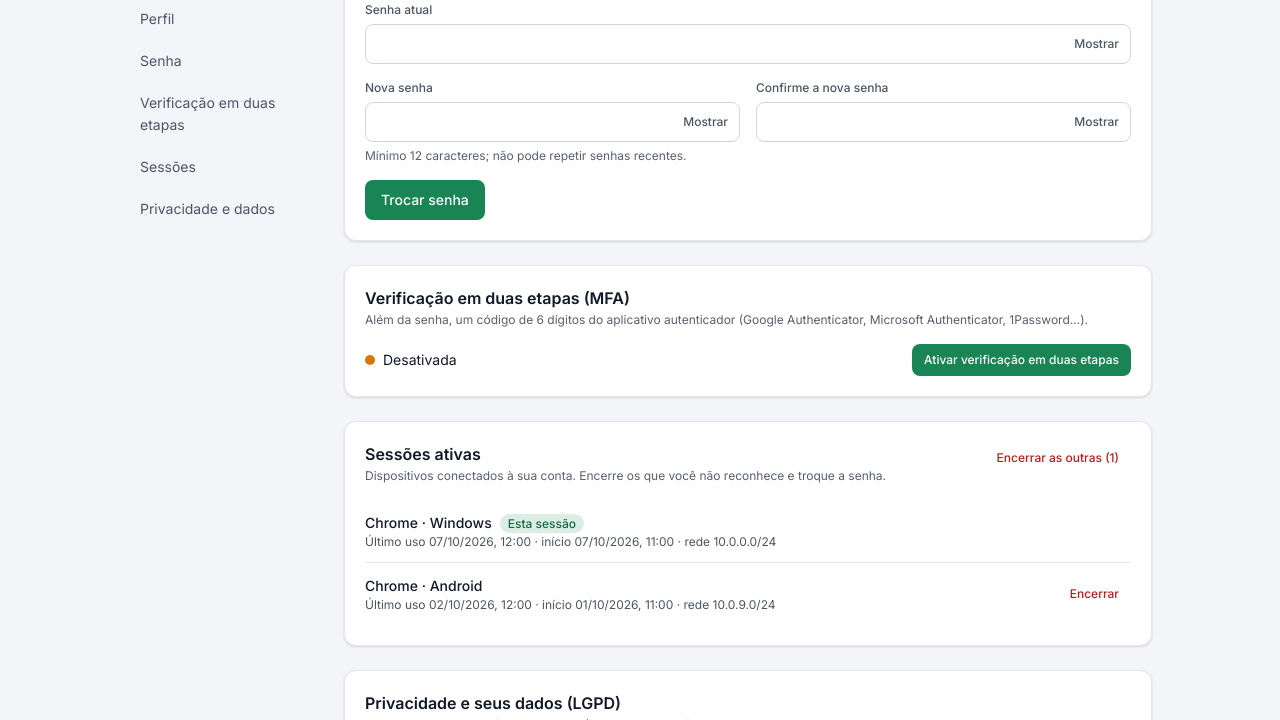
it: Minha conta › activates MFA: password → QR code + key → code → recovery codes shown once
(page scrolled)
Click the button "Ativar verificação em duas etapas" at [1022, 360], box [912,344,1131,376]
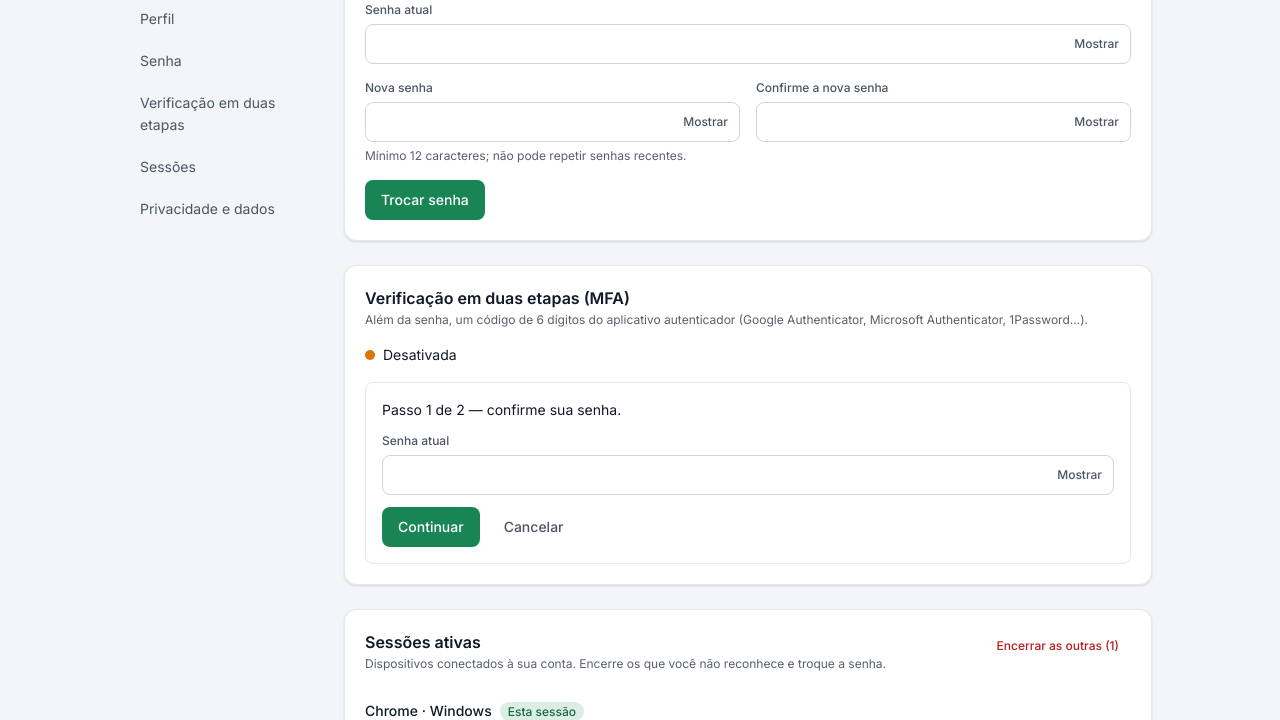
Type "Senha-Atual-123" into the password field labelled "Senha atual" below "Passo 1 de 2 — confirme sua senha." at [748, 475], box [382,455,1114,495]
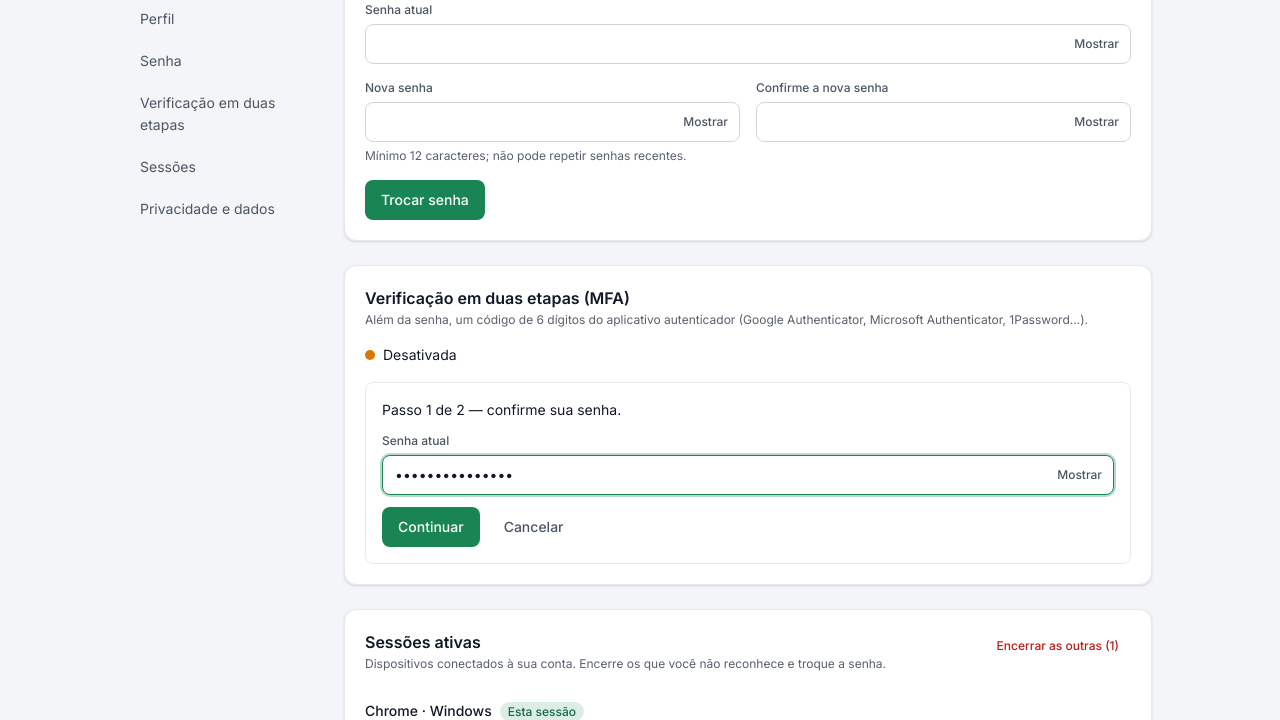
Click the button "Continuar" at [431, 527], box [382,507,480,547]
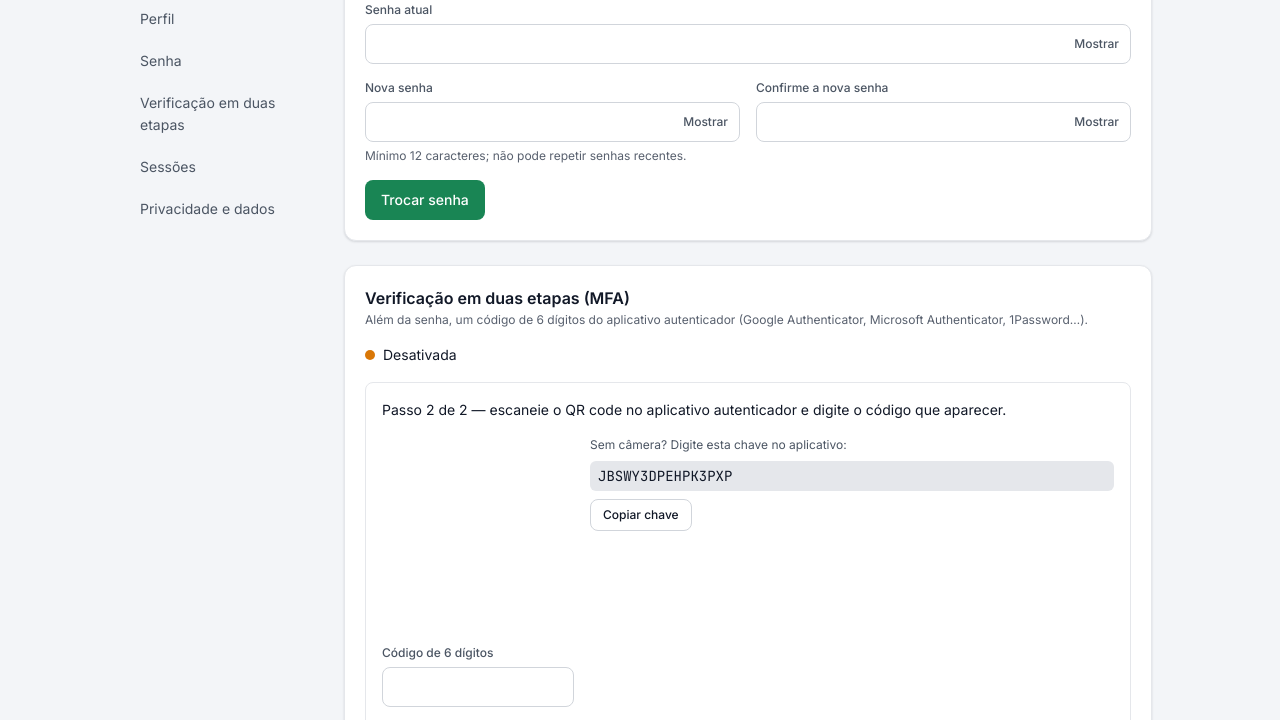
Check: the text with test id "mfa-secret" reads "JBSWY3DPEHPK3PXP", box [598,467,732,485]
Type "123 456" into the field labelled "Código de 6 dígitos" at [478, 687], box [382,667,574,707]
(page scrolled)
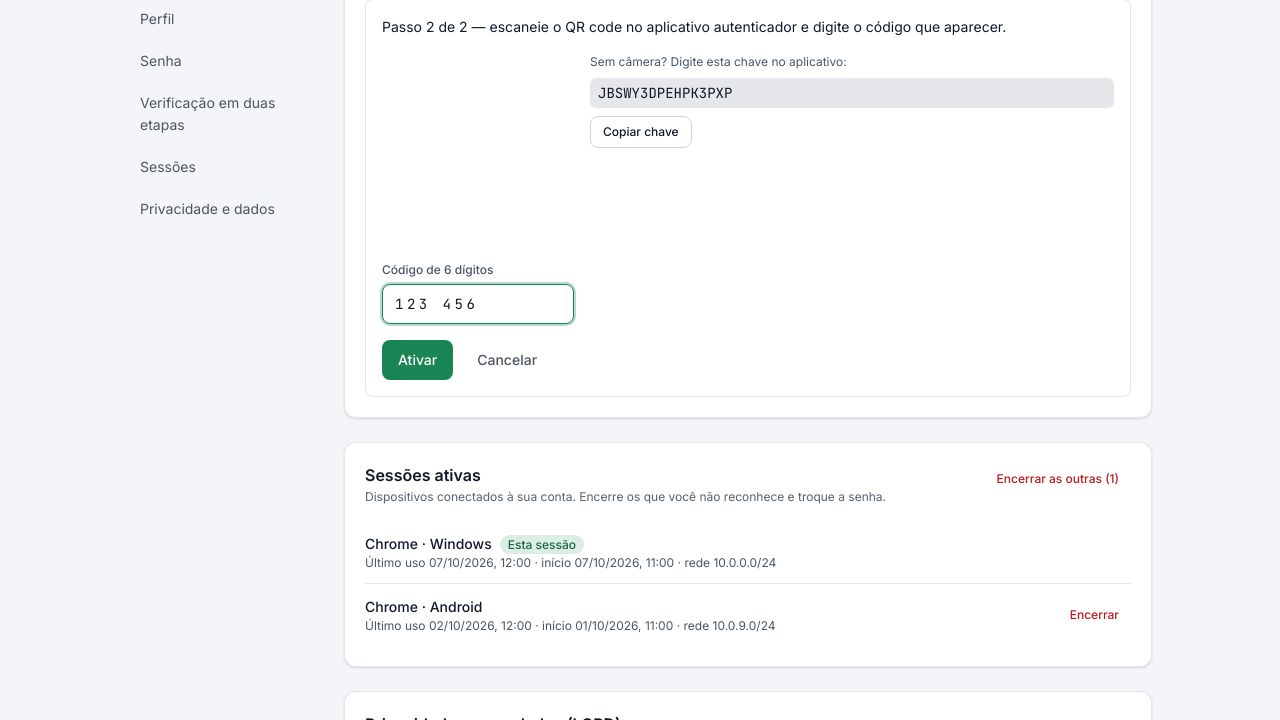
Click the button "Ativar" at [418, 360], box [382,340,453,380]
(page scrolled)
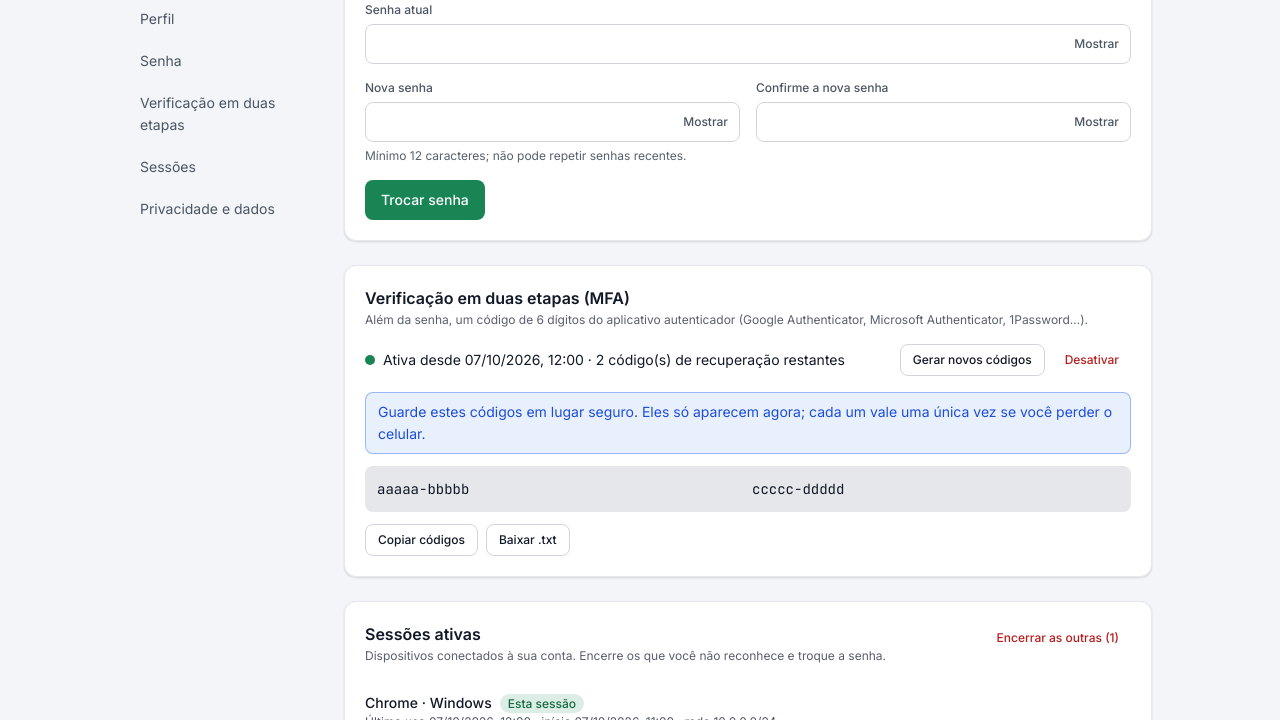
Check: the list item "aaaaa-bbbbb" is shown, box [377,480,469,498]
Check: the element with test id "mfa-status" shows "Ativa desde", box [383,351,465,368]
